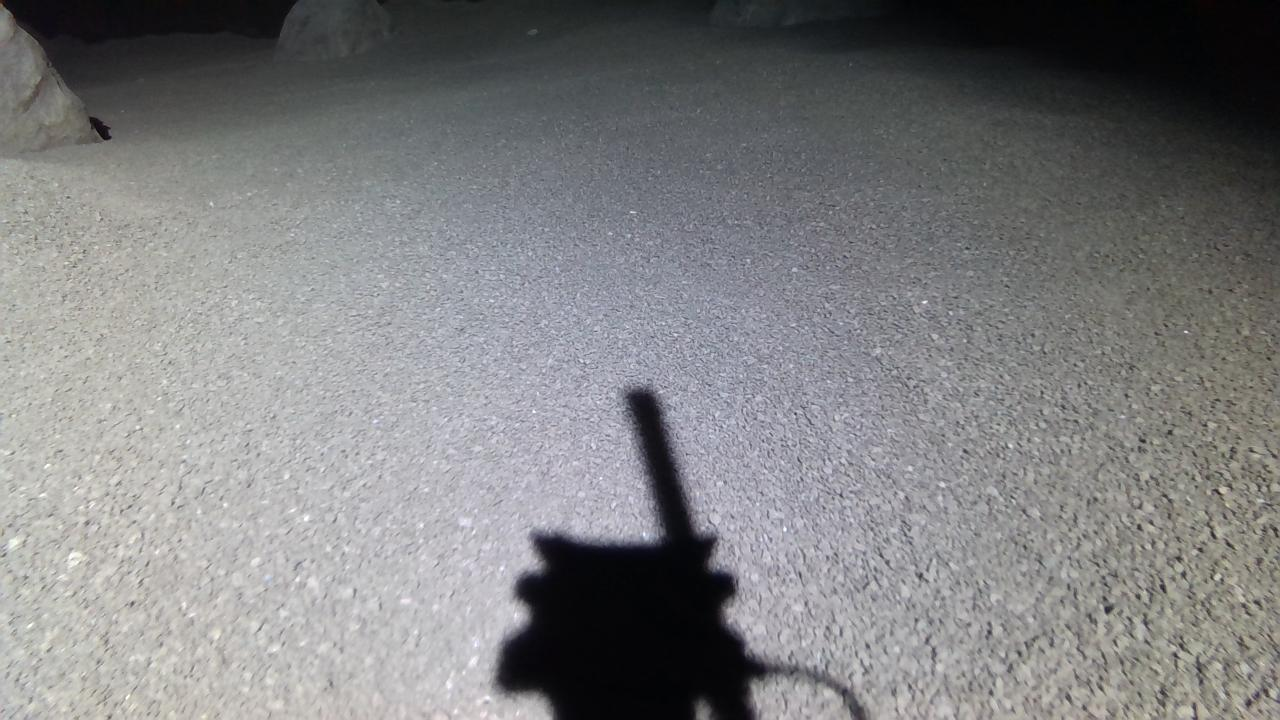rock: (0, 3, 99, 150), (273, 0, 390, 58), (711, 0, 894, 26)
